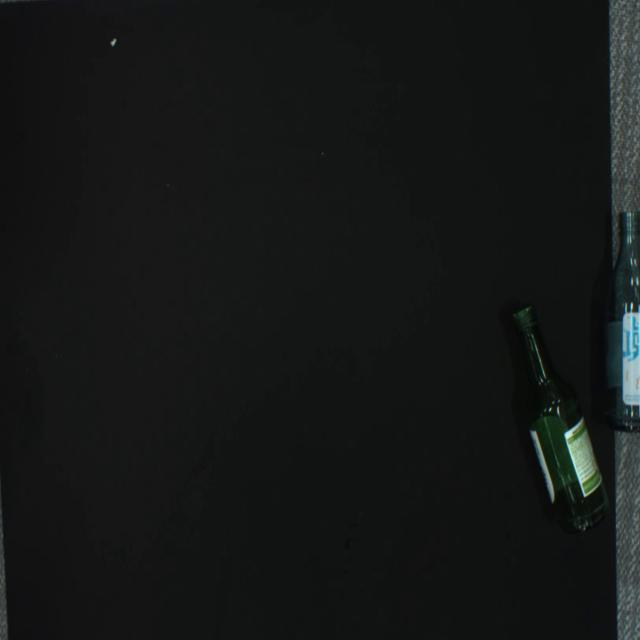soju-bottle: (512, 304, 611, 534), (602, 210, 640, 433)
